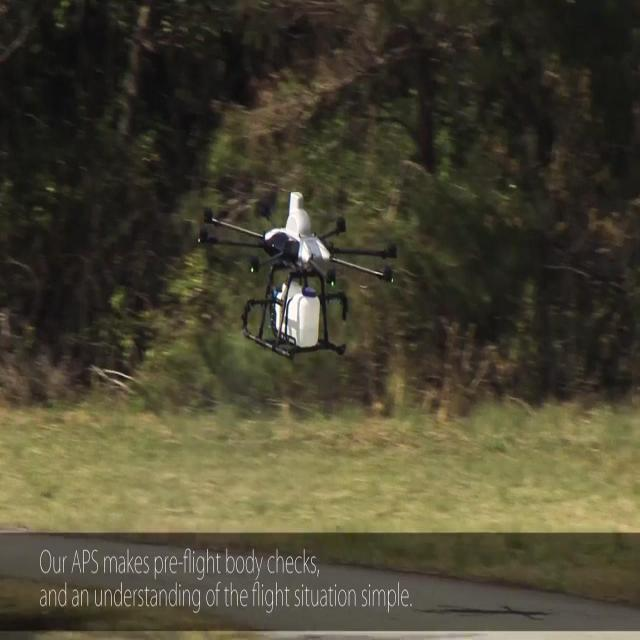UAV: (204, 190, 398, 362)
